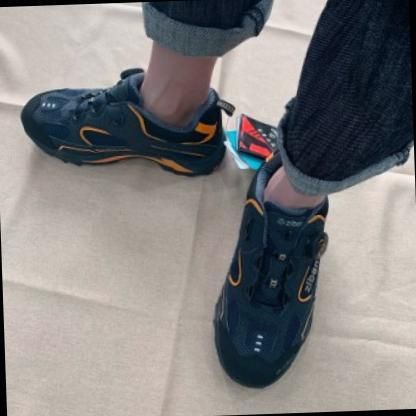safety-shoe: (203, 176, 355, 394), (16, 68, 241, 190)
